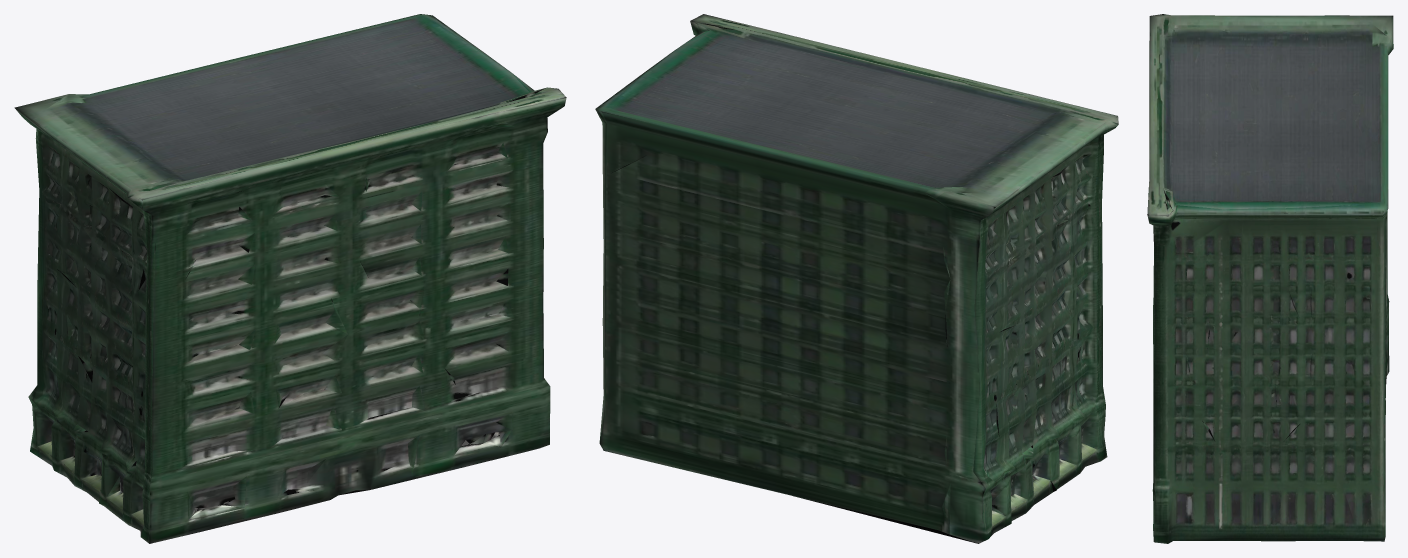
The model's file is silversmith_building.glb.
3 renders of one model, left to right at view 1: azimuth 30°, elevation 25°; view 2: azimuth 150°, elevation 25°; view 3: azimuth 270°, elevation 25°, orthographic. The views are drawn at different scales.
Visible parts, largest first — view 1: silversmith_building; view 2: silversmith_building; view 3: silversmith_building.
Boxes of the visible parts, bbox=[...] form: silversmith_building: bbox=[14, 14, 566, 543]; silversmith_building: bbox=[595, 14, 1118, 543]; silversmith_building: bbox=[1147, 14, 1393, 543].
Size of the model in its own units: 49 by 38 by 25.
1 material, 1 textured.
